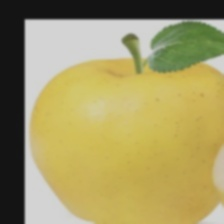apple: (21, 9, 214, 206)
